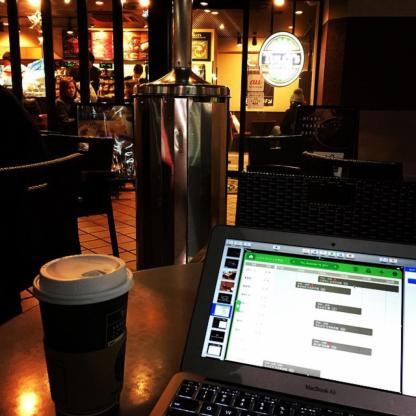board: (148, 225, 416, 416), (34, 254, 134, 416)
